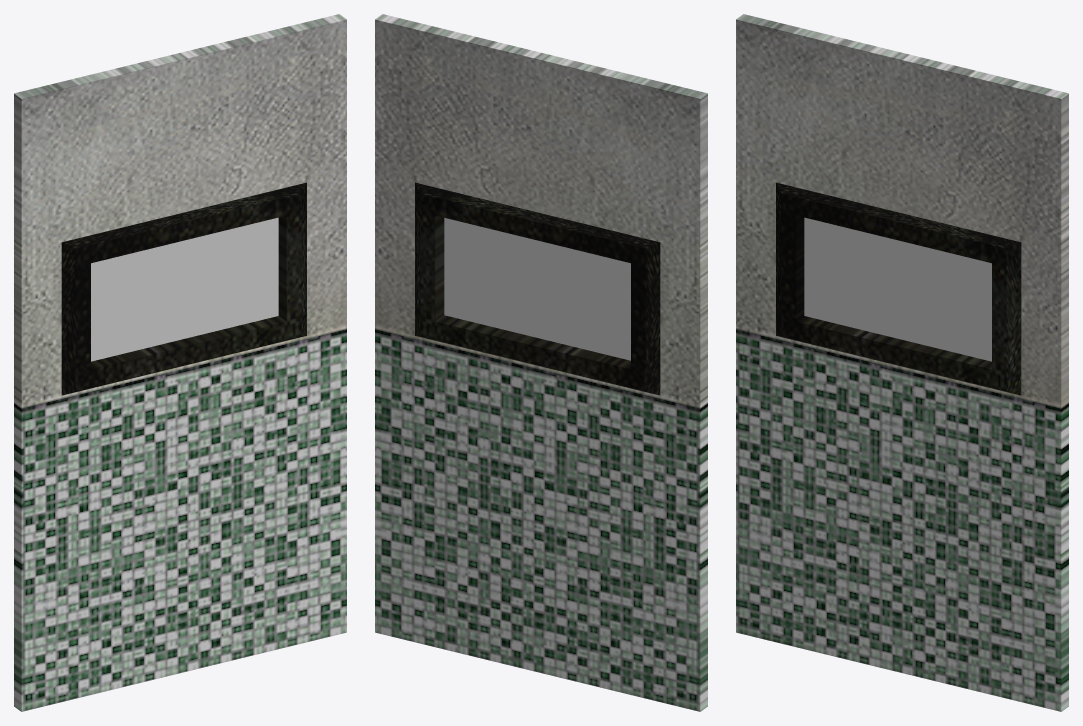
File: restroom_wall_window.fbx
The picture shows the model from 3 angles, left to right: view 1: azimuth 30°, elevation 25°; view 2: azimuth 150°, elevation 25°; view 3: azimuth 330°, elevation 25°; orthographic projection.
Parts seen in each view (by area): view 1: wall_window; view 2: wall_window; view 3: wall_window.
Boxes of the visible parts, x1,y1,x2,y2 form: wall_window: [14, 14, 346, 711]; wall_window: [375, 14, 707, 711]; wall_window: [736, 14, 1068, 711].
Size of the model in its own units: 200 by 360 by 17.8.
Materials: 2 (1 with a texture image).
